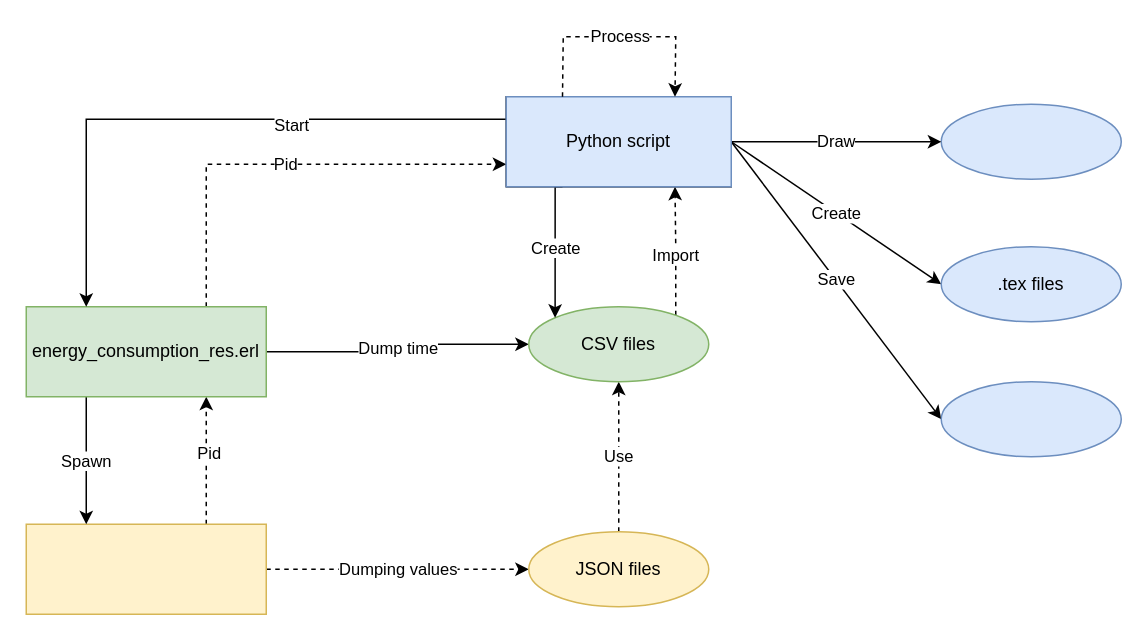
Image size: 1148x641. Some labels were removed from this diagram. Here are the shapes that lost their labels. From the top down, the centre of each, then its label:
At pixel 1030 141: "Matplotlib figures".
At pixel 1030 418: "log files".
At pixel 145 568: "Scaphandre".
